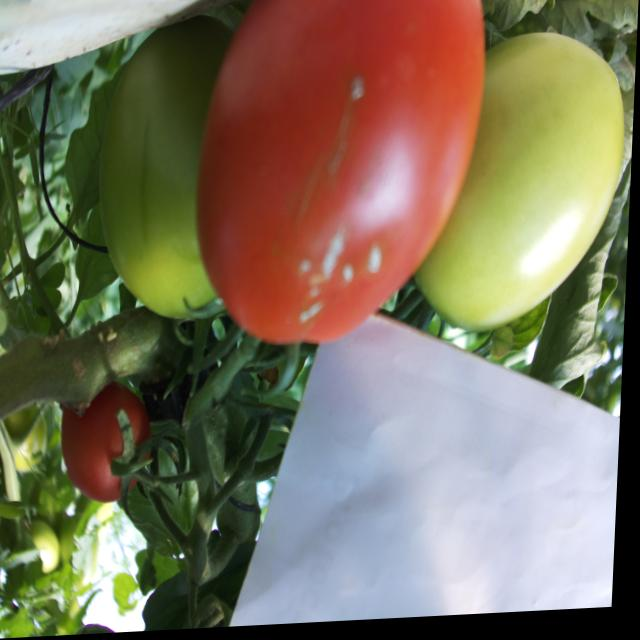kirmizi: (189, 0, 489, 377)
